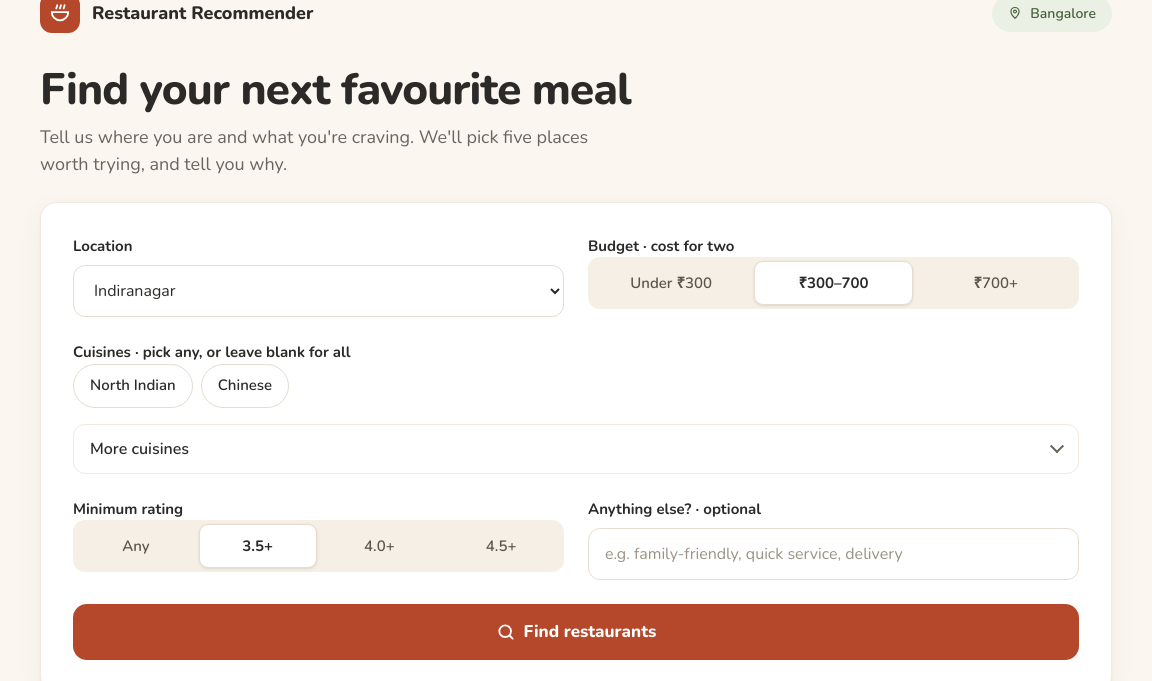
Scenario: Recommender › shows the no-matches state with notes
Click the button "Find restaurants". click: coordinates (576, 632)
box: [73,604,1079,660]
(page scrolled)
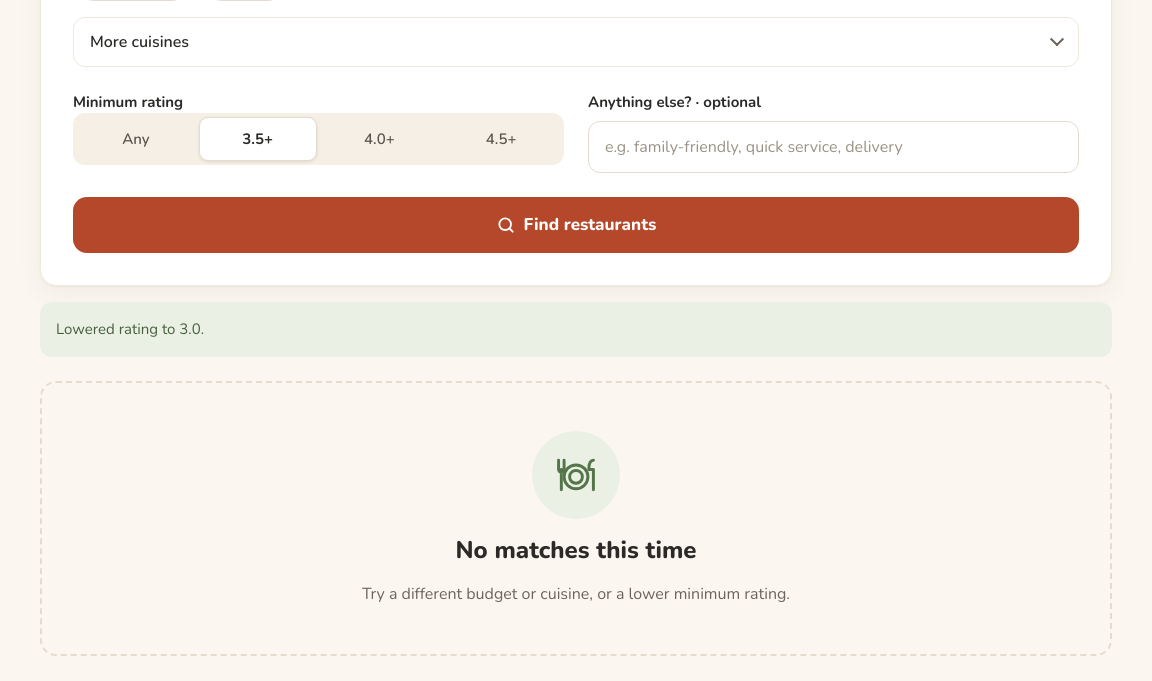
Now the heading "No matches this time" is shown, box [456,535,696,566]
Now the text "Lowered rating to 3.0." is shown, box [40,302,1112,357]
